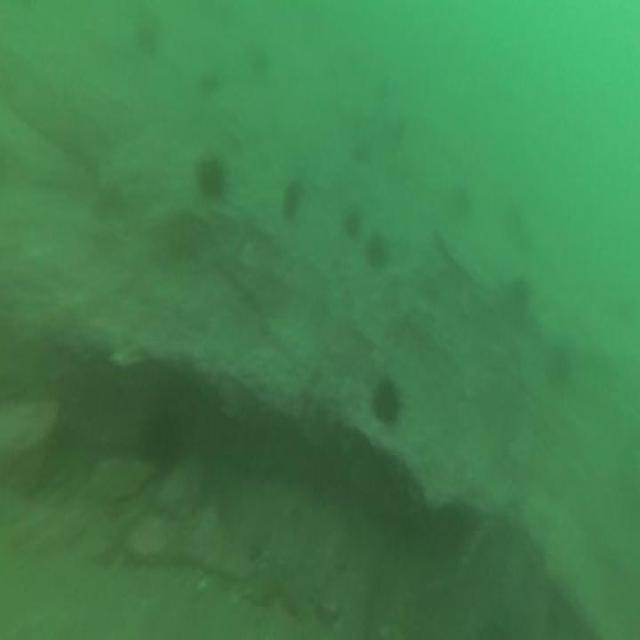echinus: (143, 408, 179, 463), (545, 344, 569, 390), (374, 381, 399, 423), (199, 158, 225, 198), (509, 275, 530, 310), (284, 182, 300, 224), (368, 234, 388, 267), (343, 202, 357, 234)
